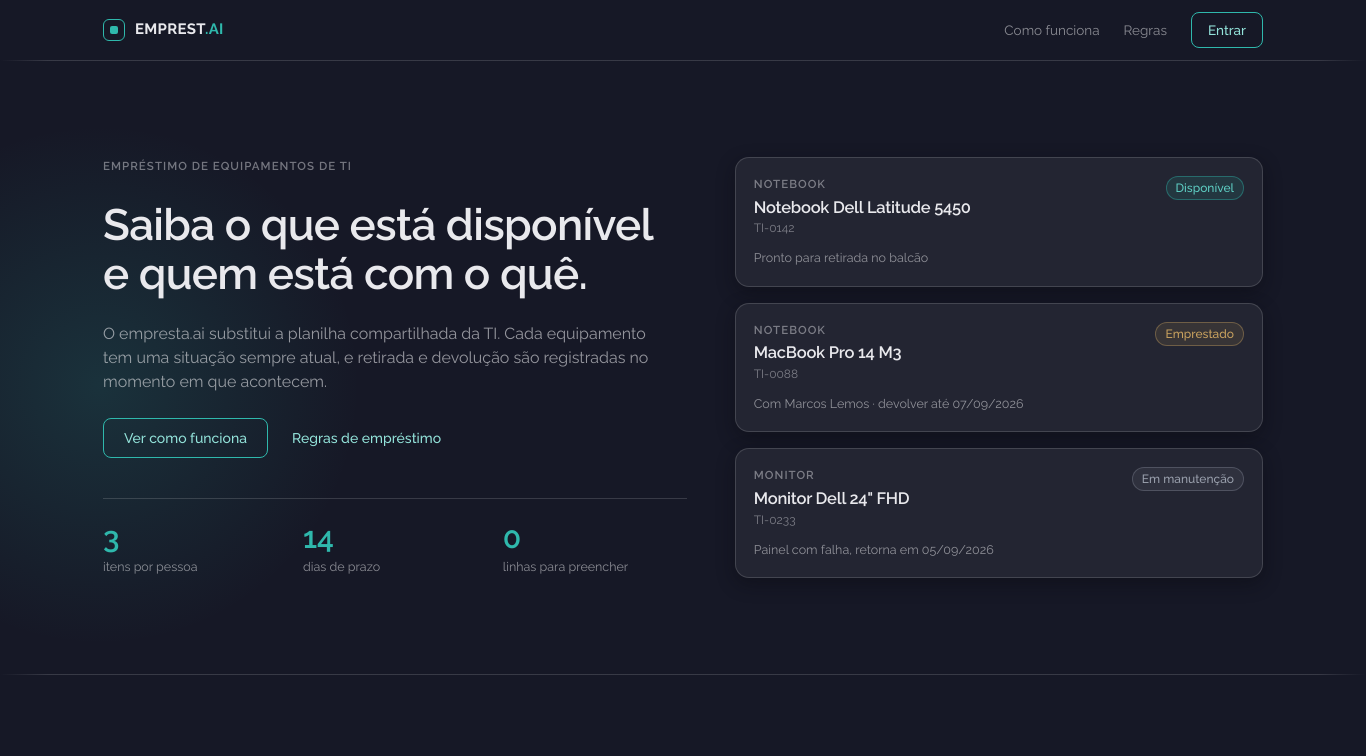
Test: login › CA-1: o botão Entrar da landing leva a /entrar, com título, E-mail, Senha e Entrar, sem Entrar como Operações
Click the link "Entrar": x=1227, y=30 [1191, 12, 1263, 48]
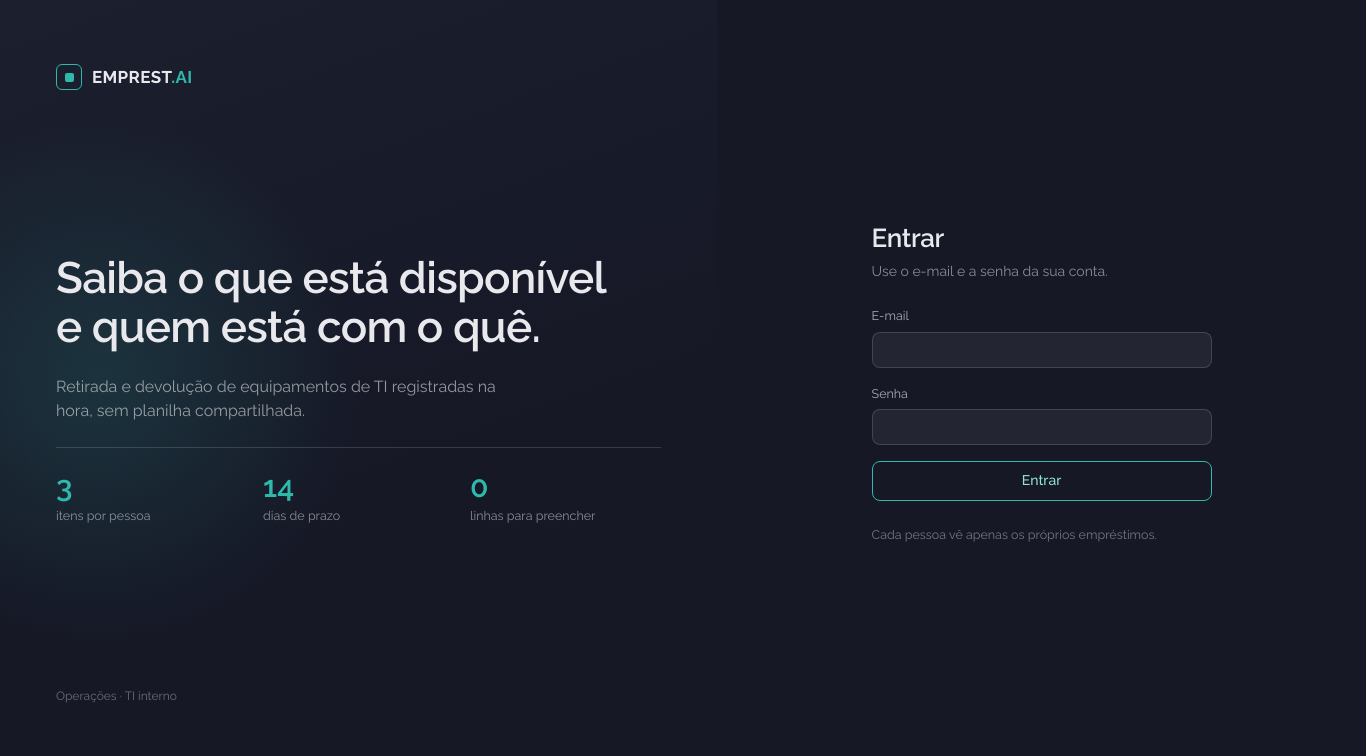
Expected: the heading "Entrar" is shown, [872, 222, 944, 252]
